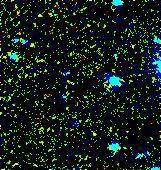star: (25, 0, 55, 29)
